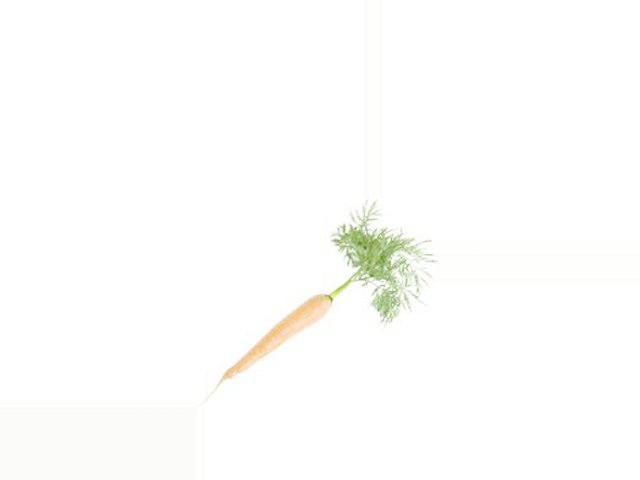carrot: (212, 290, 332, 389)
